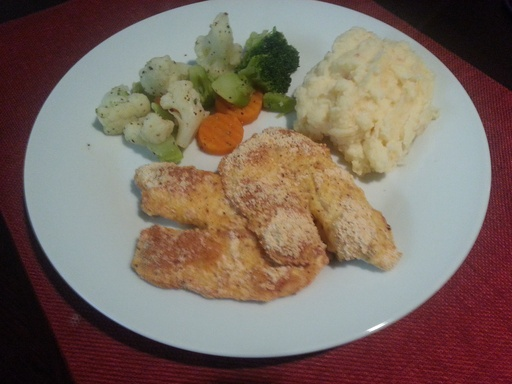background: (76, 7, 350, 181)
